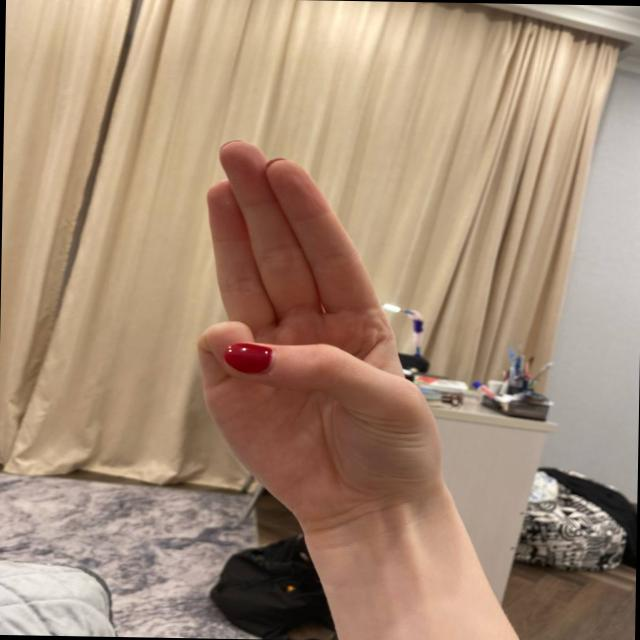sh: (164, 144, 478, 493)
